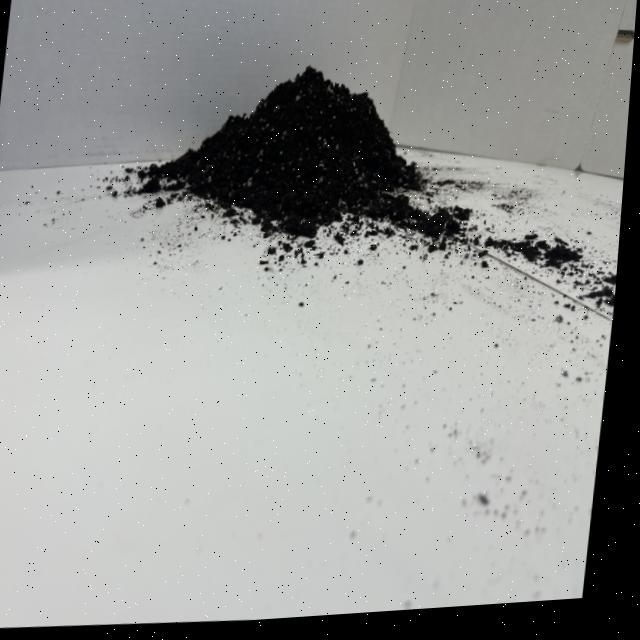soil: (121, 44, 489, 266)
